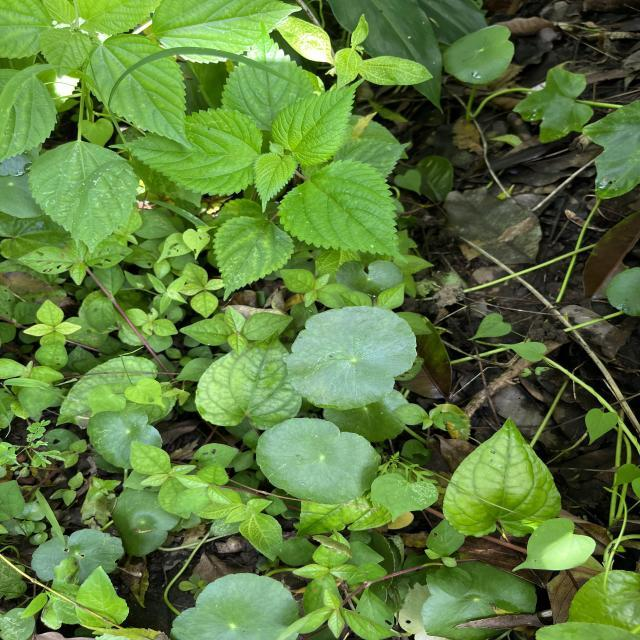Bacopa monnieri: (284, 304, 419, 412), (255, 416, 384, 506), (168, 570, 302, 640)
